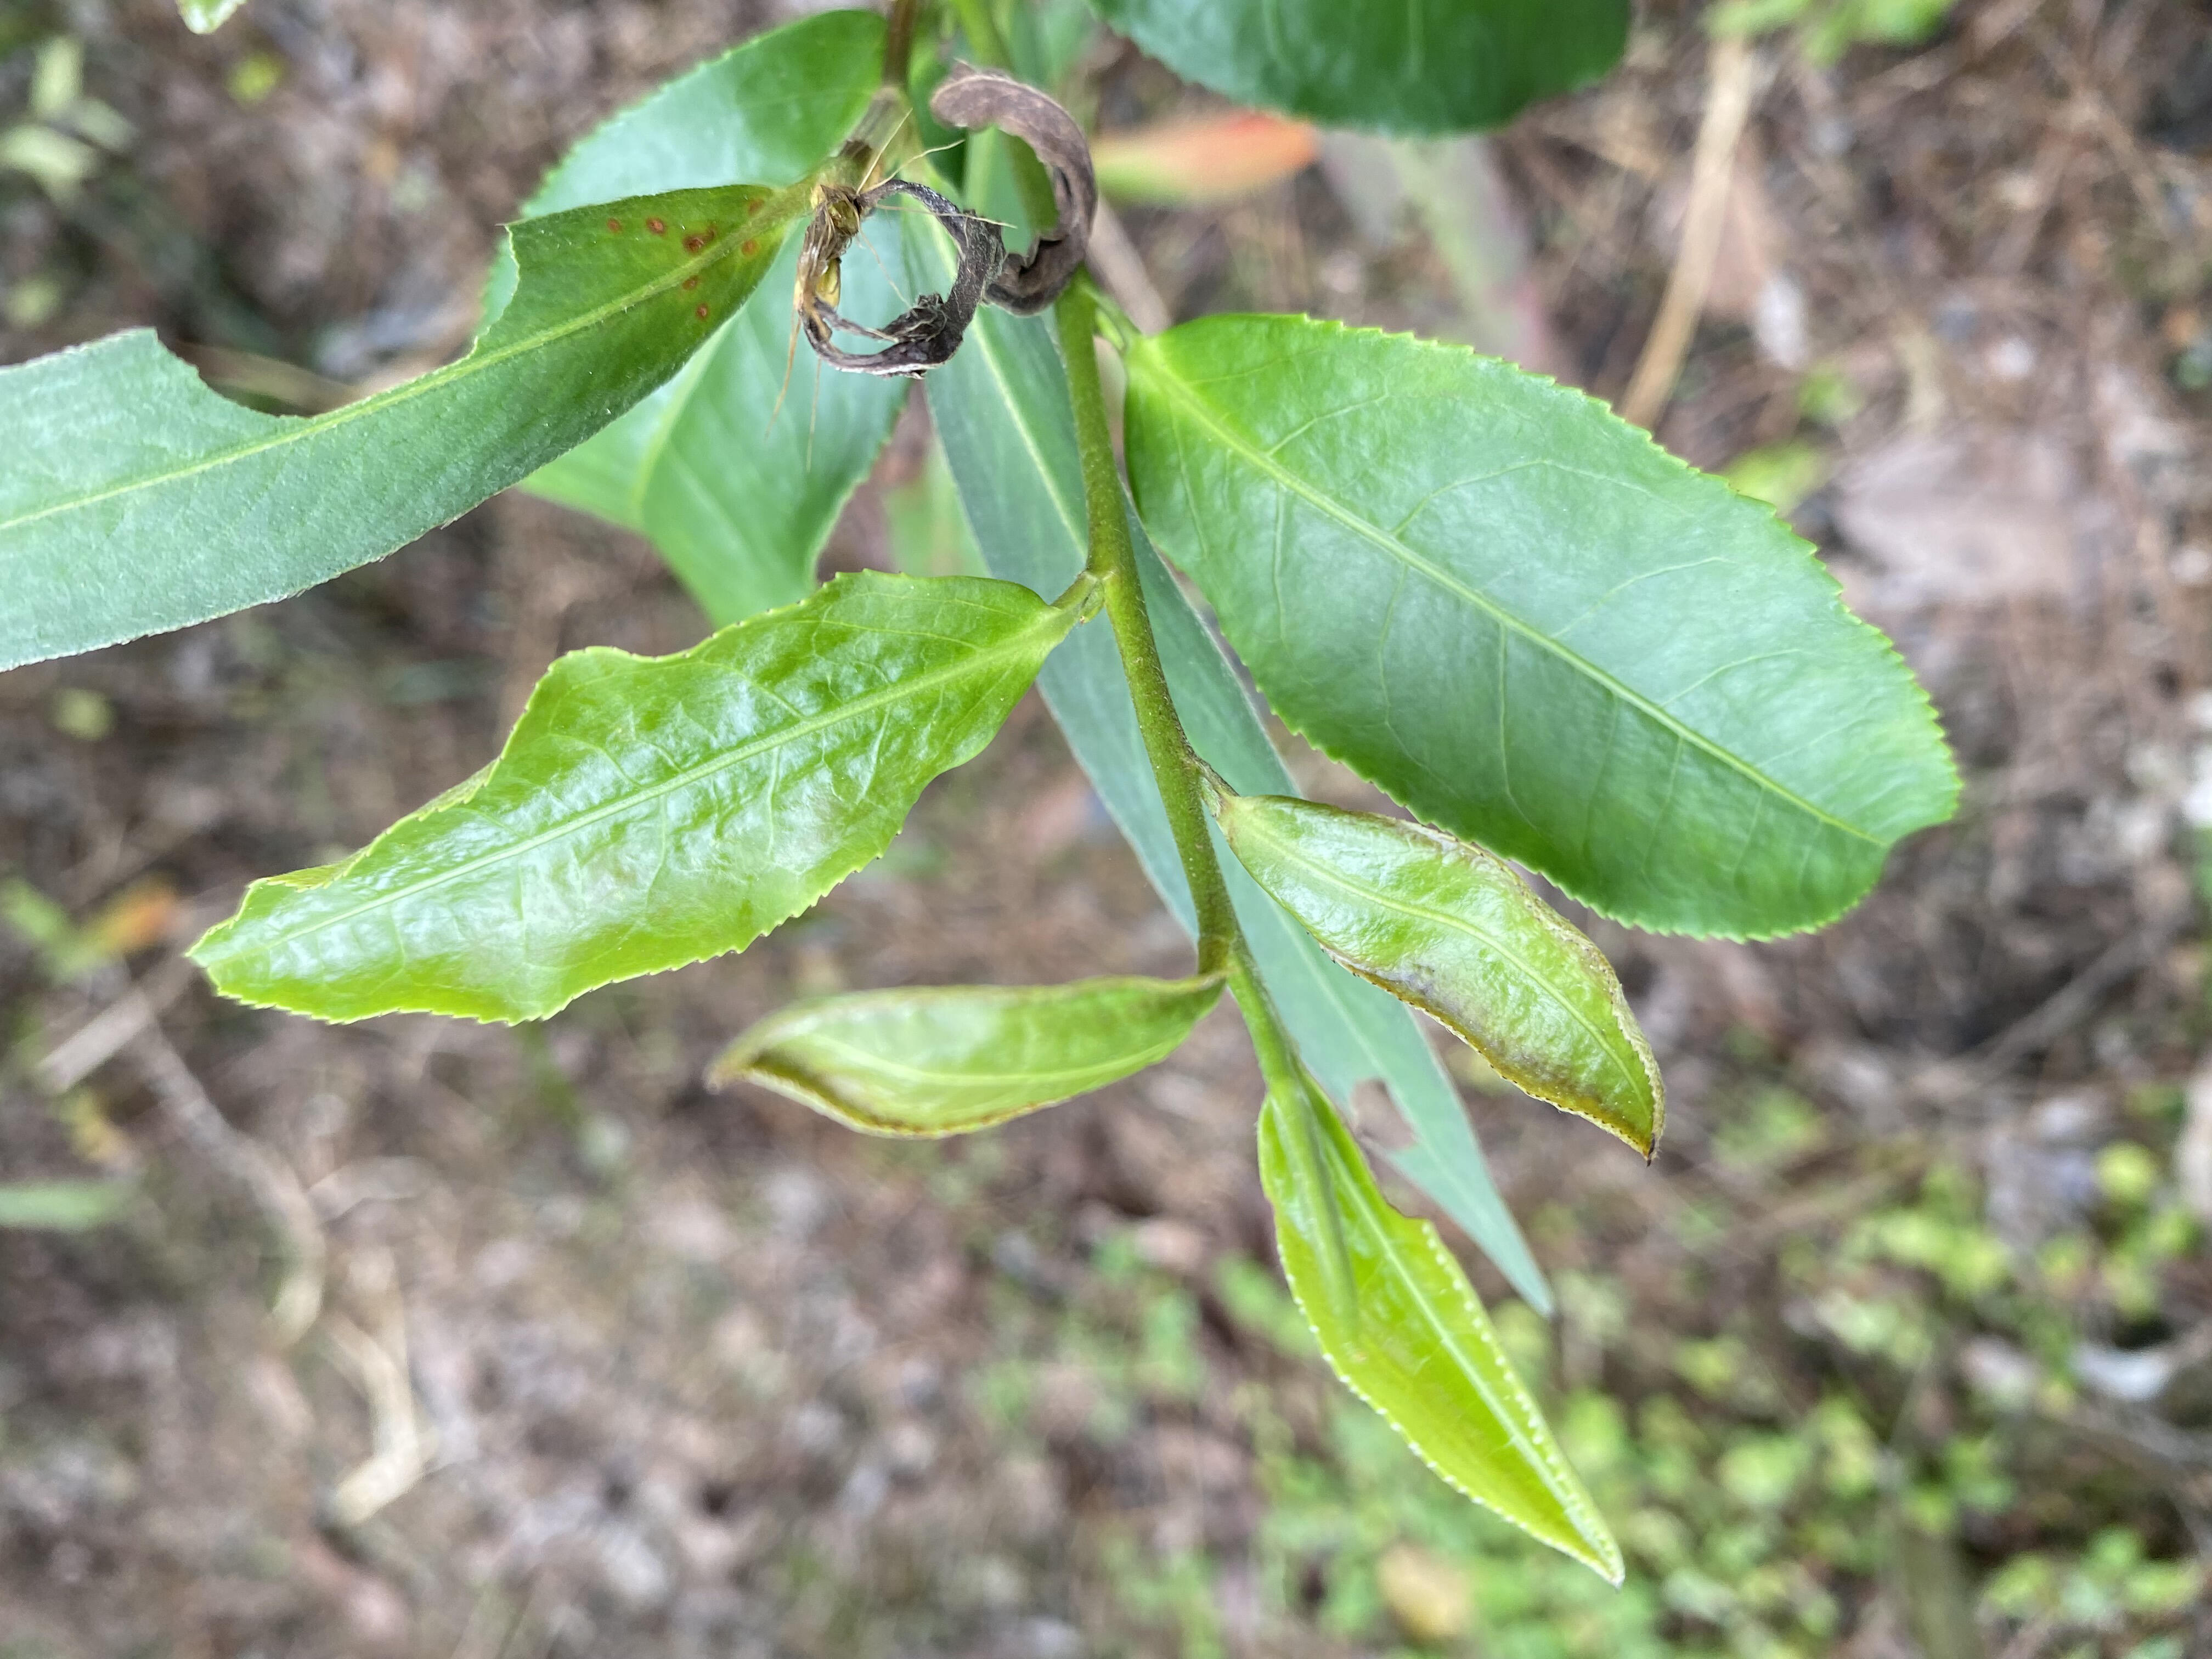chihuo_low: (3, 183, 789, 681)
healthy: (1120, 308, 1970, 946), (183, 563, 1049, 1028)
tanju_low: (1228, 791, 1669, 1164), (704, 972, 1202, 1141)
